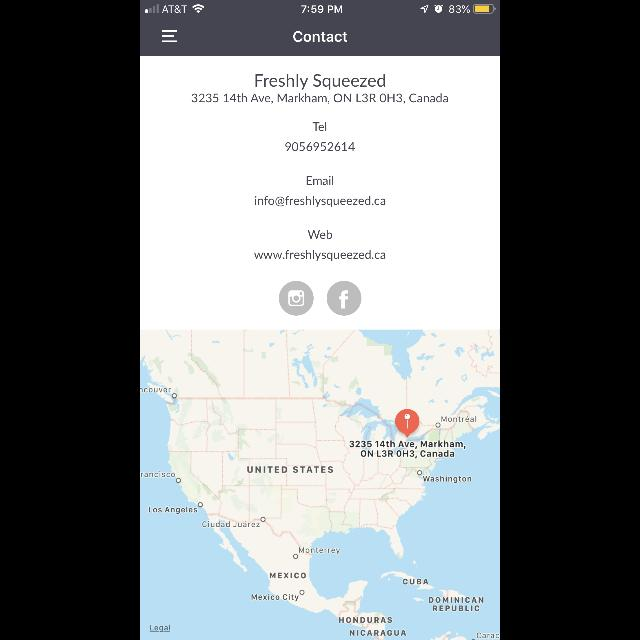icon: (326, 280, 362, 316), (162, 31, 178, 43)
image: (140, 330, 500, 640), (278, 280, 314, 316)
text: (192, 94, 448, 105), (255, 74, 385, 90), (254, 196, 386, 208), (254, 250, 386, 262), (286, 142, 354, 152), (293, 32, 347, 42), (306, 177, 334, 186), (308, 230, 332, 240), (313, 122, 327, 132)
uppertaskbar: (140, 0, 500, 14)
